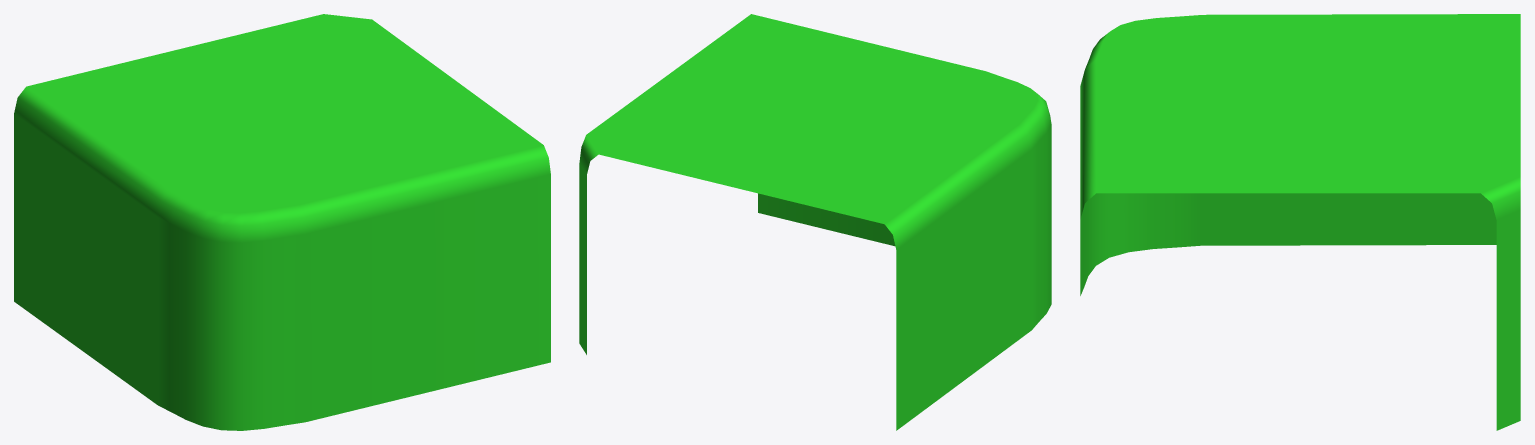
The model's file is ContainerLockedCorner.fbx.
3 views of the same model, side by side, from view 1: azimuth 30°, elevation 25°; view 2: azimuth 150°, elevation 25°; view 3: azimuth 270°, elevation 25° (orthographic). The views are drawn at different scales.
Parts seen in each view (by area): view 1: ContainerLockedCorner; view 2: ContainerLockedCorner; view 3: ContainerLockedCorner.
Part boxes in pixels (box(x1,y1,x2,y2)): ContainerLockedCorner: box(14, 14, 550, 430); ContainerLockedCorner: box(579, 14, 1051, 430); ContainerLockedCorner: box(1080, 14, 1520, 430).
Bounding box in the file's own units: 47.41 × 28.23 × 47.41.
